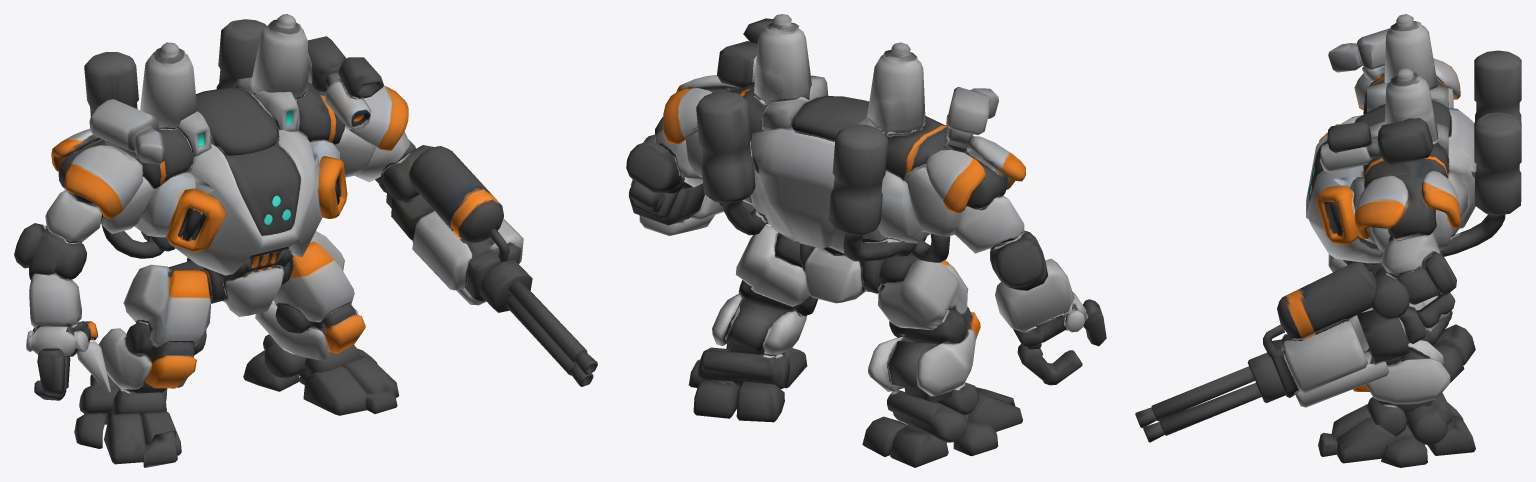
File: original.glb
The picture shows the model from 3 angles, left to right: view 1: azimuth 30°, elevation 25°; view 2: azimuth 150°, elevation 25°; view 3: azimuth 270°, elevation 25°; orthographic projection. The views are drawn at different scales.
Parts seen in each view (by area): view 1: tripo_part_0, tripo_part_6, tripo_part_11, tripo_part_1, tripo_part_26, tripo_part_2, tripo_part_39, tripo_part_22, tripo_part_23, tripo_part_8, tripo_part_9, tripo_part_51 (+48 smaller); view 2: tripo_part_0, tripo_part_15, tripo_part_9, tripo_part_6, tripo_part_23, tripo_part_22, tripo_part_17, tripo_part_1, tripo_part_51, tripo_part_21, tripo_part_58, tripo_part_38 (+43 smaller); view 3: tripo_part_15, tripo_part_0, tripo_part_11, tripo_part_39, tripo_part_16, tripo_part_9, tripo_part_59, tripo_part_23, tripo_part_4, tripo_part_22, tripo_part_29, tripo_part_69 (+34 smaller).
Part boxes in pixels (left/top/right/bottom): tripo_part_0: left=167, top=130, right=322, bottom=275; tripo_part_6: left=123, top=264, right=211, bottom=348; tripo_part_11: left=409, top=146, right=503, bottom=242; tripo_part_1: left=273, top=231, right=354, bottom=322; tripo_part_26: left=196, top=87, right=278, bottom=155; tripo_part_2: left=64, top=145, right=142, bottom=219; tripo_part_39: left=412, top=210, right=523, bottom=290; tripo_part_22: left=251, top=14, right=308, bottom=99; tripo_part_23: left=140, top=42, right=197, bottom=129; tripo_part_8: left=14, top=223, right=86, bottom=280; tripo_part_9: left=84, top=52, right=138, bottom=127; tripo_part_51: left=29, top=273, right=81, bottom=329; tripo_part_0: left=750, top=128, right=888, bottom=253; tripo_part_15: left=696, top=91, right=768, bottom=235; tripo_part_9: left=828, top=124, right=888, bottom=261; tripo_part_6: left=878, top=253, right=968, bottom=330; tripo_part_23: left=867, top=42, right=925, bottom=132; tripo_part_22: left=754, top=14, right=811, bottom=105; tripo_part_17: left=885, top=116, right=1007, bottom=209; tripo_part_1: left=735, top=225, right=809, bottom=306; tripo_part_51: left=995, top=258, right=1074, bottom=331; tripo_part_21: left=698, top=347, right=789, bottom=388; tripo_part_58: left=916, top=329, right=975, bottom=396; tripo_part_38: left=953, top=196, right=1024, bottom=253; tripo_part_15: left=1440, top=112, right=1521, bottom=256; tripo_part_0: left=1306, top=108, right=1476, bottom=263; tripo_part_11: left=1277, top=262, right=1376, bottom=339; tripo_part_39: left=1282, top=318, right=1367, bottom=392; tripo_part_16: left=1363, top=141, right=1448, bottom=239; tripo_part_9: left=1474, top=50, right=1521, bottom=121; tripo_part_59: left=1365, top=358, right=1450, bottom=404; tripo_part_23: left=1384, top=14, right=1437, bottom=89; tripo_part_4: left=1354, top=176, right=1408, bottom=238; tripo_part_22: left=1385, top=68, right=1438, bottom=141; tripo_part_29: left=1135, top=366, right=1254, bottom=428; tripo_part_69: left=1377, top=118, right=1432, bottom=165.
Bounding box in the file's own units: 0.9995 × 0.7876 × 0.7603.
Materials: 94 (94 with a texture image).
